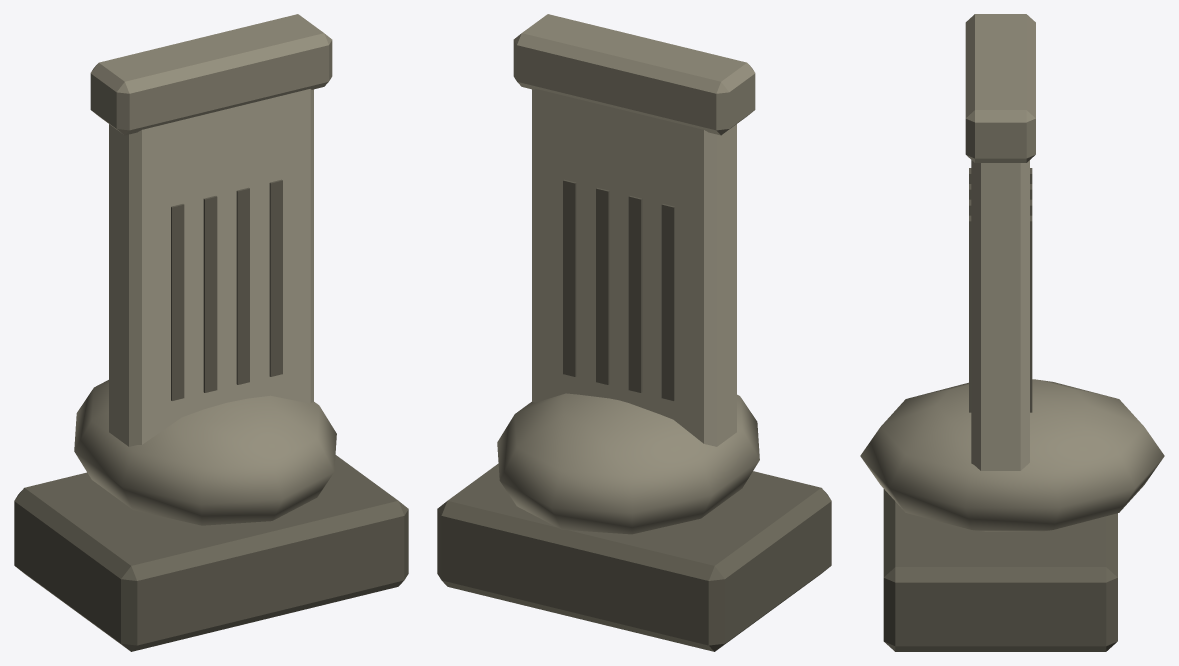
Rendered from stele.glb.
3 views of the same model, side by side, from view 1: azimuth 30°, elevation 25°; view 2: azimuth 150°, elevation 25°; view 3: azimuth 270°, elevation 25° (orthographic).
Visible parts, largest first — view 1: Stele; view 2: Stele; view 3: Stele.
Part boxes in pixels (bbox=[...]): Stele: bbox=[14, 14, 408, 651]; Stele: bbox=[437, 14, 831, 651]; Stele: bbox=[860, 14, 1164, 651].
Size of what is drawn, in the model's own units: 1.4 by 2.47 by 1.3.
